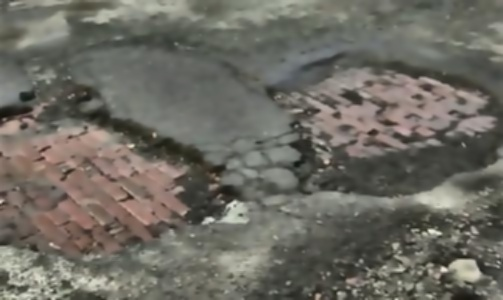pothole: (0, 77, 248, 255), (263, 56, 502, 197)
